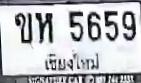5: (68, 10, 83, 41), (103, 10, 118, 40)
6: (86, 10, 100, 40)
9: (121, 10, 135, 40)
A02: (14, 12, 32, 44)
A41: (35, 12, 52, 42)
CMI: (40, 50, 103, 71)
